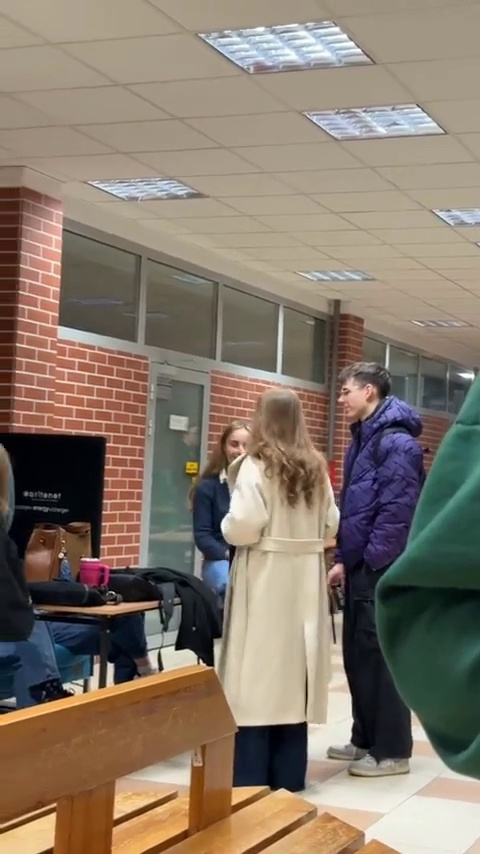no vest: (226, 385, 334, 735), (330, 362, 427, 734)
